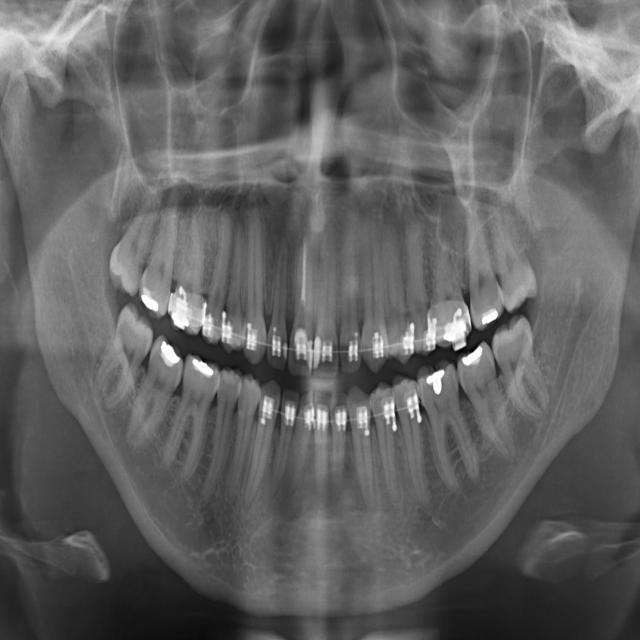AmalgamRestoration: (187, 349, 217, 384), (158, 331, 182, 372), (424, 364, 448, 404), (140, 280, 161, 320), (462, 342, 485, 373), (477, 302, 499, 334), (168, 304, 193, 332)
CompositeResinRestoration: (285, 329, 313, 374), (311, 331, 329, 372)
RootCanalTreatment: (295, 228, 313, 329)
